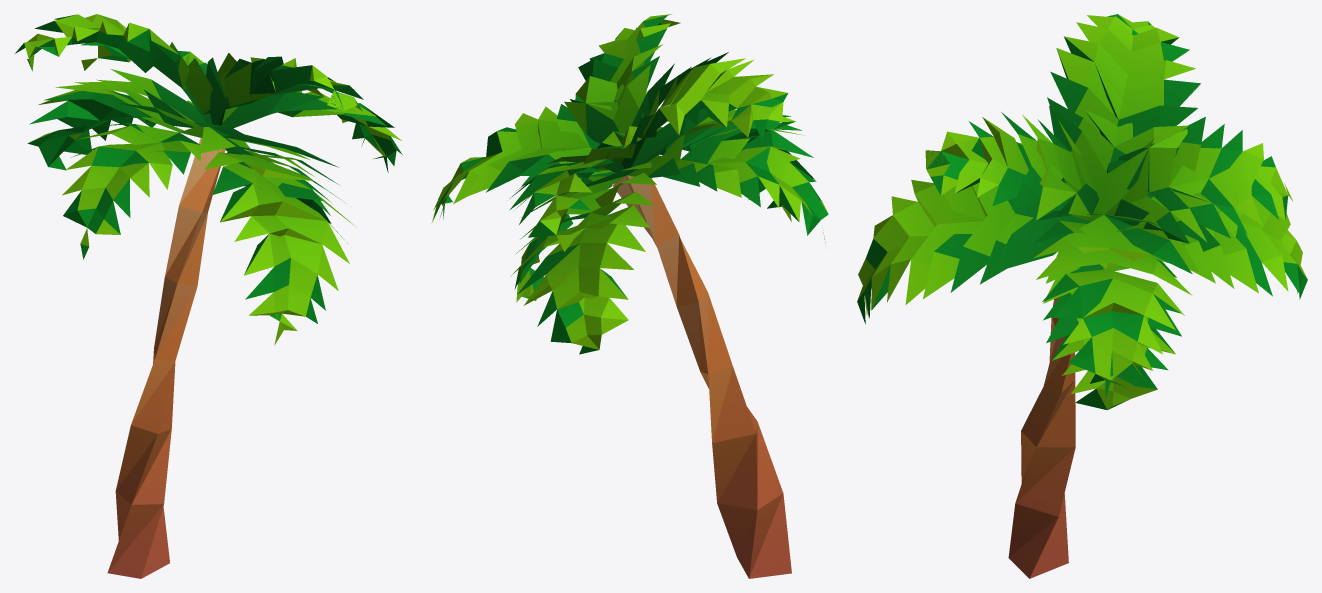
Rendered from GL-Palmtree-05-LOD3.fbx.
3 views of the same model, side by side, from view 1: azimuth 30°, elevation 25°; view 2: azimuth 150°, elevation 25°; view 3: azimuth 270°, elevation 25° (orthographic). The views are drawn at different scales.
Visible parts, largest first — view 1: GL_Palmtree_05; view 2: GL_Palmtree_05; view 3: GL_Palmtree_05.
Boxes of the visible parts, x1,y1,x2,y2 form: GL_Palmtree_05: (15, 14, 402, 578); GL_Palmtree_05: (431, 14, 828, 578); GL_Palmtree_05: (857, 14, 1307, 578).
Size of the model in its own units: 2.4 by 3.35 by 2.55.
